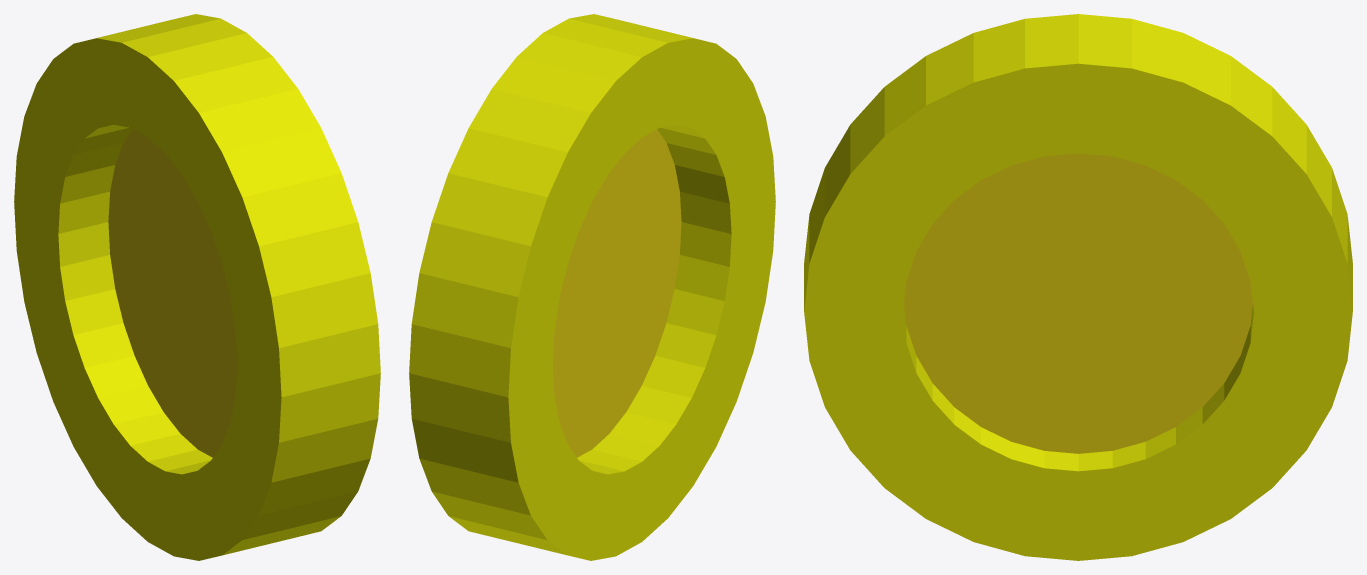
The model's file is coin_new.fbx.
3 renders of one model, left to right at view 1: azimuth 30°, elevation 25°; view 2: azimuth 150°, elevation 25°; view 3: azimuth 270°, elevation 25°, orthographic. The views are drawn at different scales.
Visible parts, largest first — view 1: Circle; view 2: Circle; view 3: Circle.
Boxes of the visible parts, x1=… form: Circle: x1=14, y1=14, x2=380, y2=560; Circle: x1=409, y1=14, x2=775, y2=560; Circle: x1=804, y1=14, x2=1352, y2=560.
Bounding box in the file's own units: 42.88 × 200 × 200.
